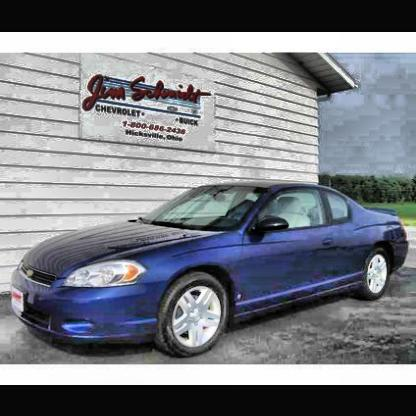Chevrolet Monte Carlo Coupe 2007: (6, 182, 413, 362)
